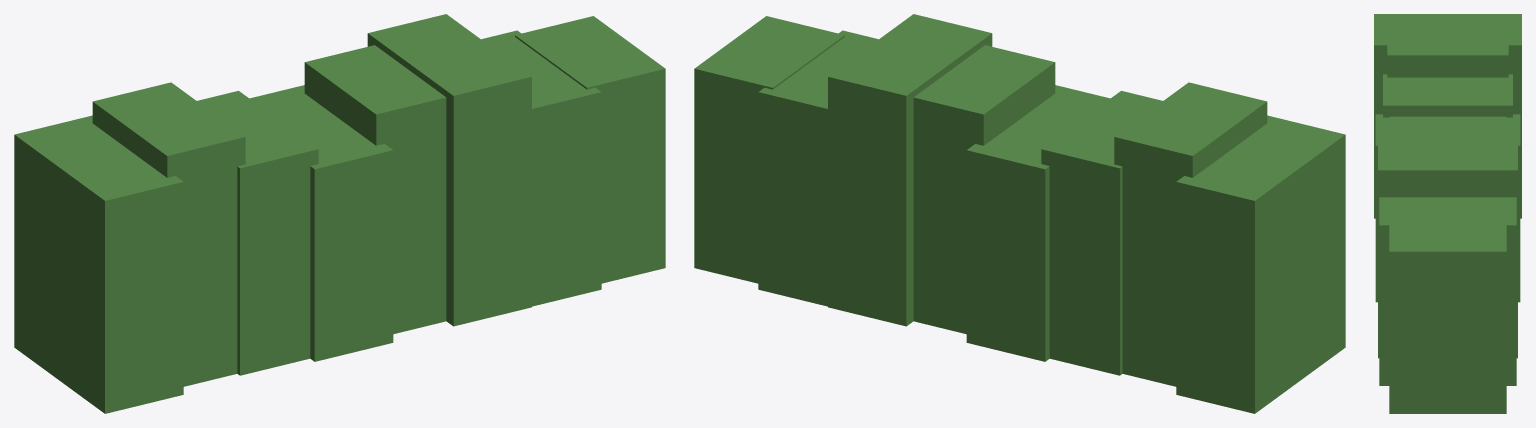
The model's file is hedge_4m.glb.
3 renders of one model, left to right at view 1: azimuth 30°, elevation 25°; view 2: azimuth 150°, elevation 25°; view 3: azimuth 270°, elevation 25°, orthographic. The views are drawn at different scales.
Parts seen in each view (by area): view 1: hedge_4m; view 2: hedge_4m; view 3: hedge_4m.
Part boxes in pixels (x1,y1,x2,y2): hedge_4m: (14,14,665,413); hedge_4m: (694,14,1345,413); hedge_4m: (1374,14,1521,413).
Size of the model in its own units: 4.06 by 1.6 by 1.12.
